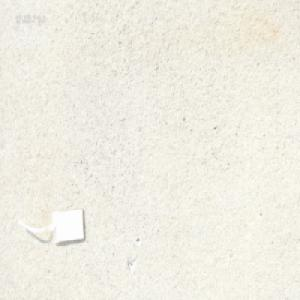LuggageTag: (17, 205, 86, 247)
